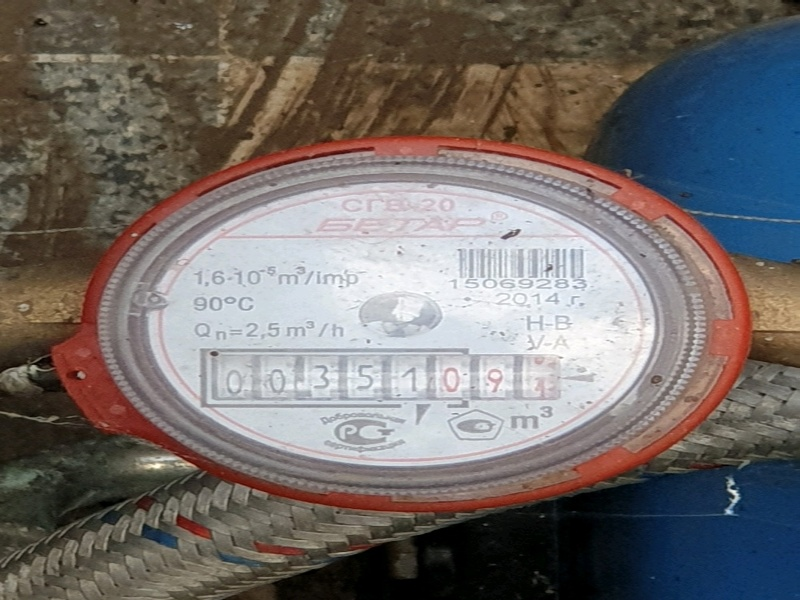meter: (200, 349, 554, 403)
